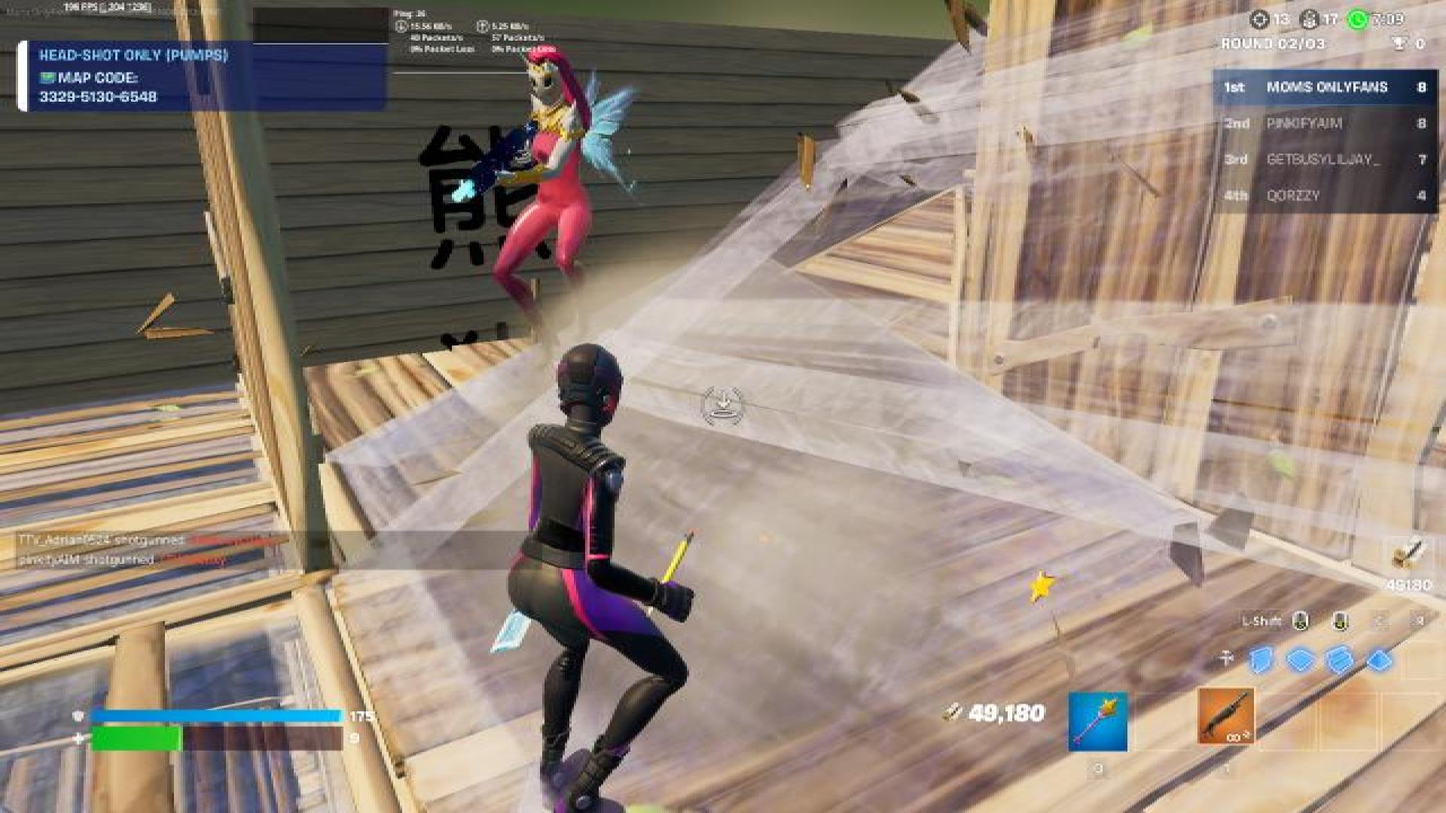player: (472, 49, 648, 354)
